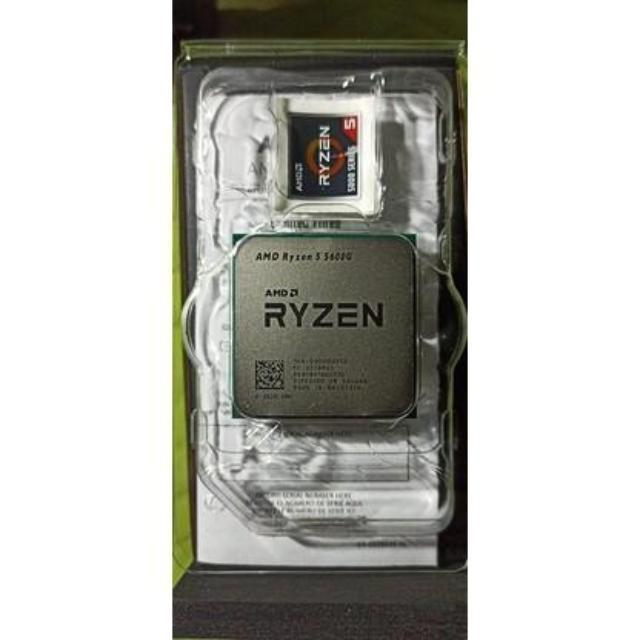CPU: (228, 230, 422, 428)
